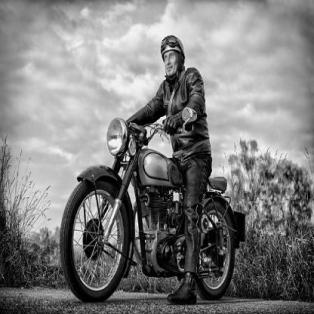Motocicleta: (59, 115, 240, 304)
